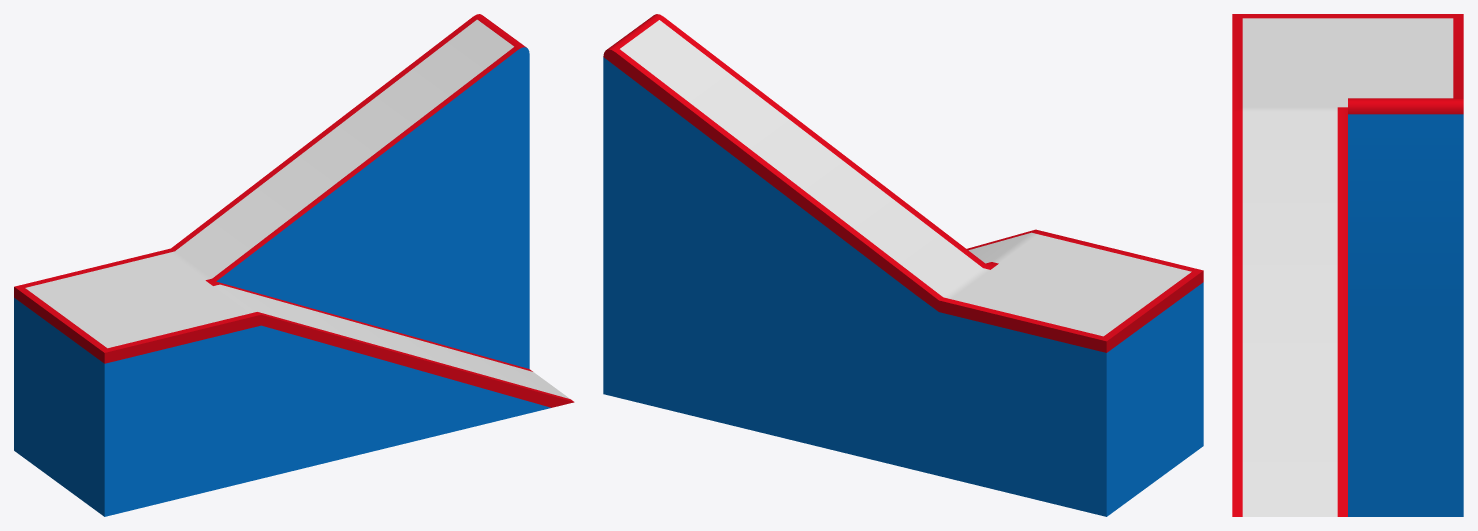
The model's file is OrtaYol_Merdiven.fbx.
3 views of the same model, side by side, from view 1: azimuth 30°, elevation 25°; view 2: azimuth 150°, elevation 25°; view 3: azimuth 270°, elevation 25° (orthographic). The views are drawn at different scales.
Parts seen in each view (by area): view 1: OrtaYol_Merdiven; view 2: OrtaYol_Merdiven; view 3: OrtaYol_Merdiven.
Boxes of the visible parts, box(x1,y1,x2,y2) form: OrtaYol_Merdiven: box(14, 14, 574, 516); OrtaYol_Merdiven: box(603, 14, 1203, 516); OrtaYol_Merdiven: box(1232, 14, 1463, 516).
Bounding box in the file's own units: 600 × 394 × 200.
